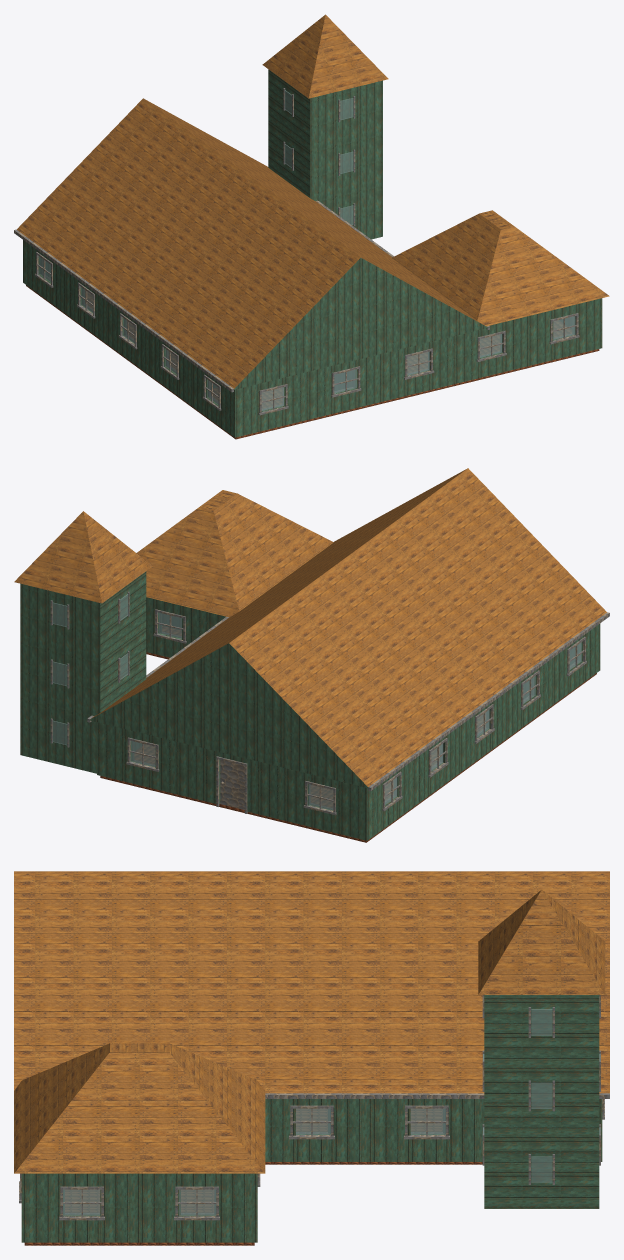
The model's file is bell-court-chapel.gltf.
The picture shows the model from 3 angles, top to bottom: view 1: azimuth 30°, elevation 25°; view 2: azimuth 150°, elevation 25°; view 3: azimuth 270°, elevation 25°; orthographic projection. The views are drawn at different scales.
Visible parts, largest first — view 1: roof-L0-terracotta, exterior-L0-plaster, tower-L0-plaster, roof-L0-plaster, tower-L0-terracotta, trim-L0-dark-wood, glazing-L0-glass, floor-L0-floor, roof-L0-dark-wood, tower-L0-glass; view 2: roof-L0-terracotta, exterior-L0-plaster, tower-L0-plaster, roof-L0-plaster, tower-L0-terracotta, trim-L0-dark-wood, glazing-L0-glass, floor-L0-floor, roof-L0-dark-wood, tower-L0-glass, door-leaf-L0-dark-wood, tower-L0-dark-wood; view 3: roof-L0-terracotta, exterior-L0-plaster, tower-L0-plaster, tower-L0-terracotta, floor-L0-floor, glazing-L0-glass, trim-L0-dark-wood, tower-L0-glass, roof-L0-dark-wood, tower-L0-dark-wood.
Boxes of the visible parts, x1,y1,x2,y2 form: roof-L0-terracotta: [17, 98, 609, 388]; exterior-L0-plaster: [23, 240, 602, 437]; tower-L0-plaster: [268, 69, 382, 239]; roof-L0-plaster: [234, 258, 488, 389]; tower-L0-terracotta: [262, 14, 388, 98]; trim-L0-dark-wood: [35, 252, 579, 415]; glazing-L0-glass: [39, 257, 575, 410]; floor-L0-floor: [26, 285, 599, 439]; roof-L0-dark-wood: [14, 200, 489, 392]; tower-L0-glass: [284, 90, 353, 224]; roof-L0-terracotta: [91, 468, 606, 786]; exterior-L0-plaster: [97, 597, 600, 840]; tower-L0-plaster: [20, 571, 146, 773]; roof-L0-plaster: [89, 643, 368, 788]; tower-L0-terracotta: [14, 511, 152, 603]; trim-L0-dark-wood: [126, 609, 586, 815]; glazing-L0-glass: [131, 612, 581, 810]; floor-L0-floor: [100, 626, 596, 842]; roof-L0-dark-wood: [87, 612, 609, 790]; tower-L0-glass: [52, 594, 128, 745]; door-leaf-L0-dark-wood: [220, 760, 244, 809]; tower-L0-dark-wood: [50, 591, 129, 747]; roof-L0-terracotta: [14, 871, 609, 1173]; exterior-L0-plaster: [21, 1099, 602, 1242]; tower-L0-plaster: [484, 995, 599, 1208]; tower-L0-terracotta: [478, 889, 605, 994]; floor-L0-floor: [24, 1109, 482, 1245]; glazing-L0-glass: [63, 1108, 445, 1215]; trim-L0-dark-wood: [19, 1099, 604, 1220]; tower-L0-glass: [483, 1009, 600, 1182]; roof-L0-dark-wood: [265, 1093, 609, 1098]; tower-L0-dark-wood: [482, 995, 600, 1184].
Size of the model in its own units: 15.61 by 8.63 by 15.56.
7 materials, 6 textured.
